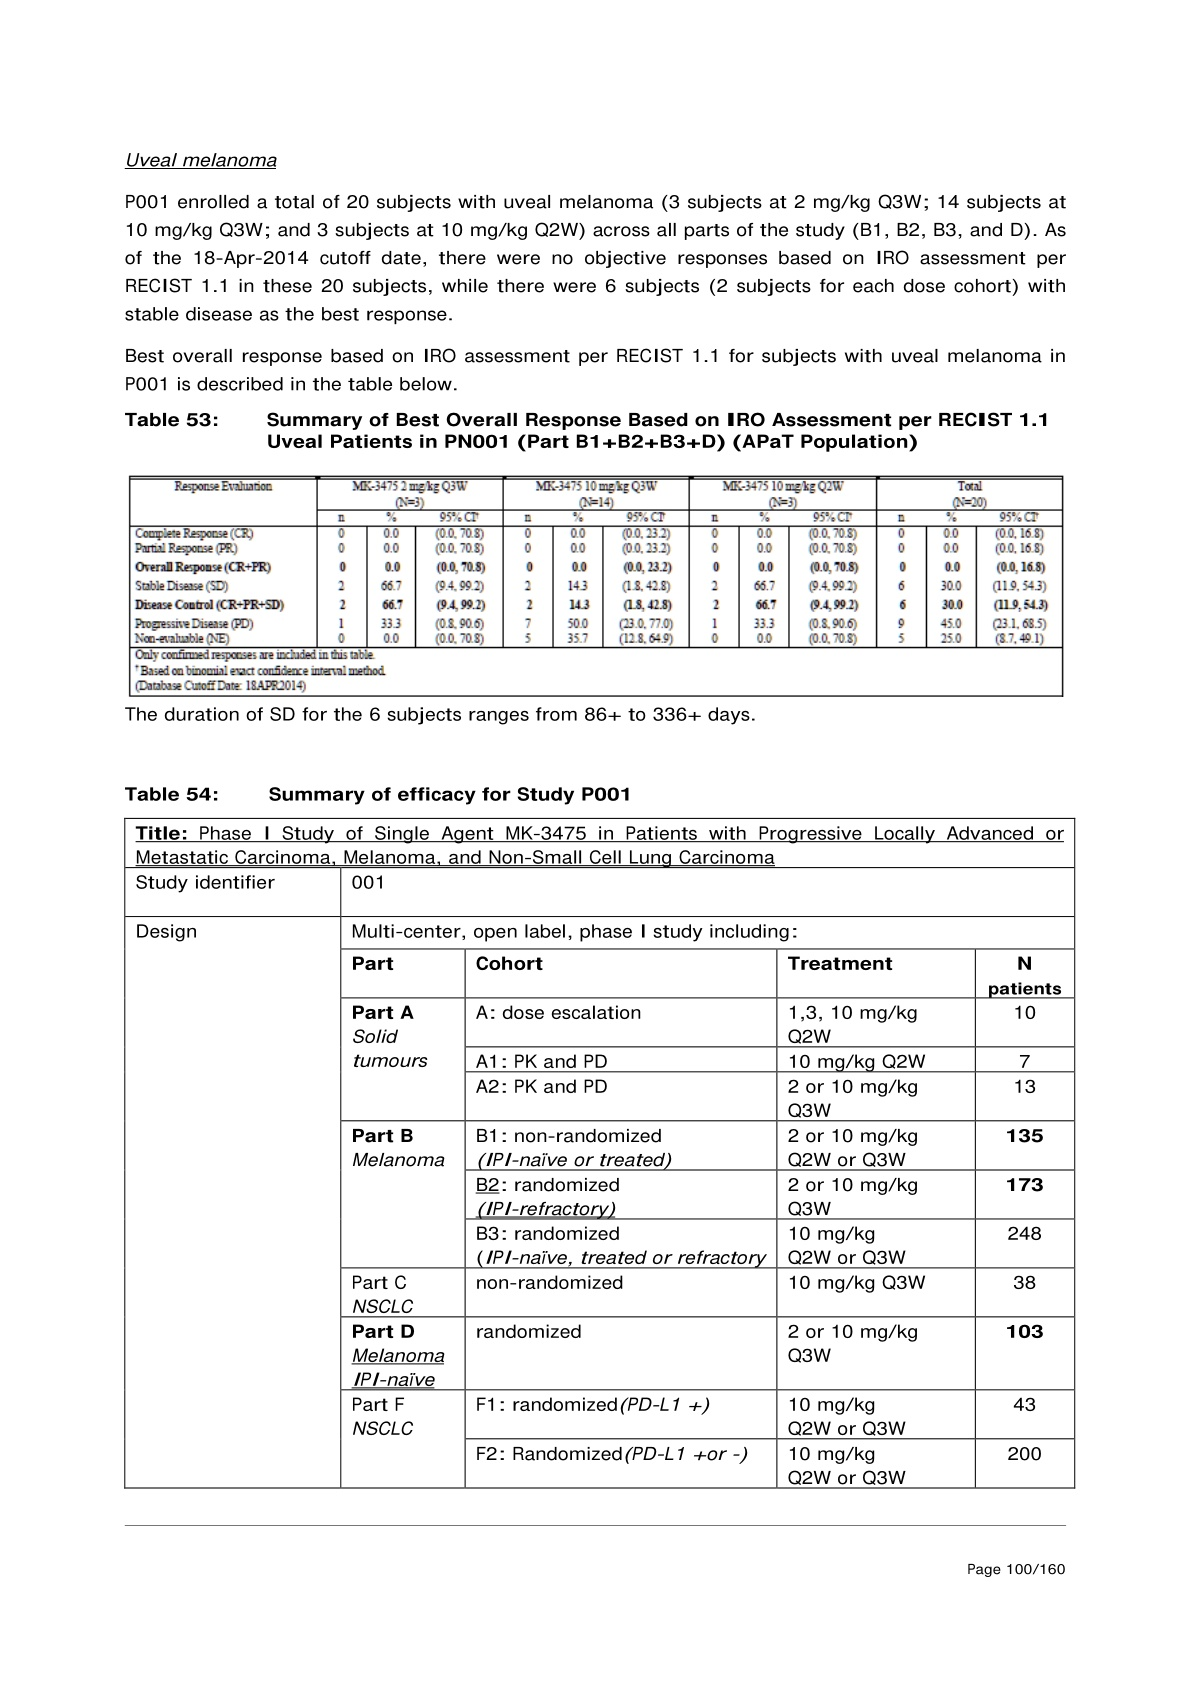merged_cells: (122, 816, 1075, 1489), (128, 475, 1063, 698)
